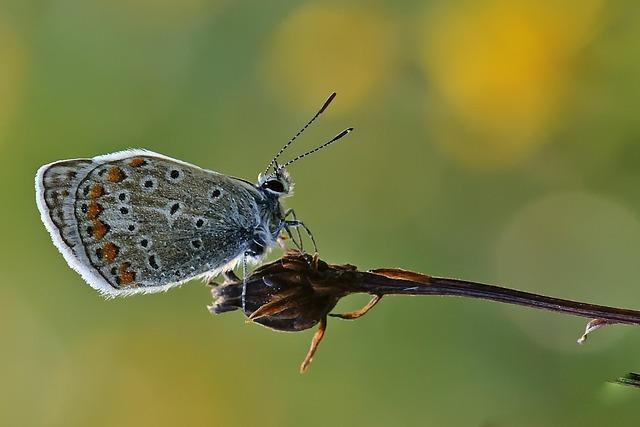Non_Gorille: (29, 39, 610, 427)
